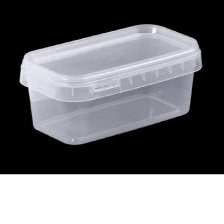plastic_box: (12, 16, 208, 150)
